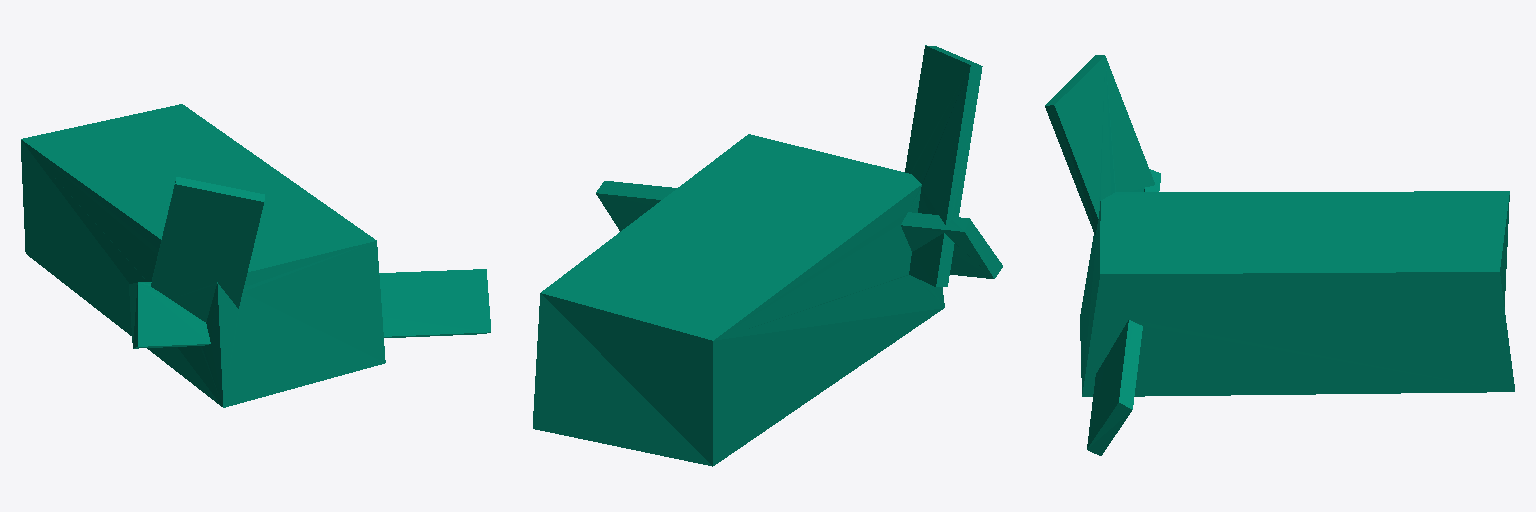
robot.urdf — blob370:

<robot name="blob370">
  <link name="random_obj_370">
    <contact>
      <lateral_friction value="1.0"/>
      <rolling_friction value="0.0"/>
      <inertia_scaling value="3.0"/>
      <contact_cfm value="0.0"/>
      <contact_erp value="1.0"/>
    </contact>
    <inertial>
      <origin rpy="0 0 0" xyz="0 0 0"/>
      <mass value="0.0889"/>
      <inertia ixx="1" ixy="0" ixz="0" iyy="1" iyz="0" izz="0"/>
    </inertial>
    <visual>
      <origin rpy="0 0 0" xyz="0 0 0"/>
      <geometry>
        <mesh filename="370.obj" scale="0.0079 0.0079 0.0079"/>
      </geometry>
      <material name="blockmat">
        <color rgba="0.04 0.58 0.48 1"/>
      </material>
    </visual>
    <collision>
      <origin rpy="0 0 0" xyz="0 0 0"/>
      <geometry>
        <mesh filename="370_coll.obj" scale="0.0079 0.0079 0.0079"/>
      </geometry>
    </collision>
  </link>
</robot>

--- What the picture shows (computed from the rendered views, not written in the file) ---
3 views of the same robot in one strip: view 1: azimuth 30°, elevation 25°; view 2: azimuth 150°, elevation 25°; view 3: azimuth 270°, elevation 25° (orthographic).
Model blob370 with 1 links and 0 joints (none), rooted at random_obj_370, posed all joints at 0.
Links seen in each view (by area): view 1: random_obj_370; view 2: random_obj_370; view 3: random_obj_370.
Boxes of the visible links, x1,y1,x2,y2 form: random_obj_370: [21, 104, 490, 407]; random_obj_370: [533, 45, 1002, 466]; random_obj_370: [1045, 55, 1514, 455].
Size in the robot's own frame: 0.0968 by 0.1065 by 0.0609 metres.
Meshes: 1 distinct files referenced, 1 mesh visuals loaded (1 OBJ).
